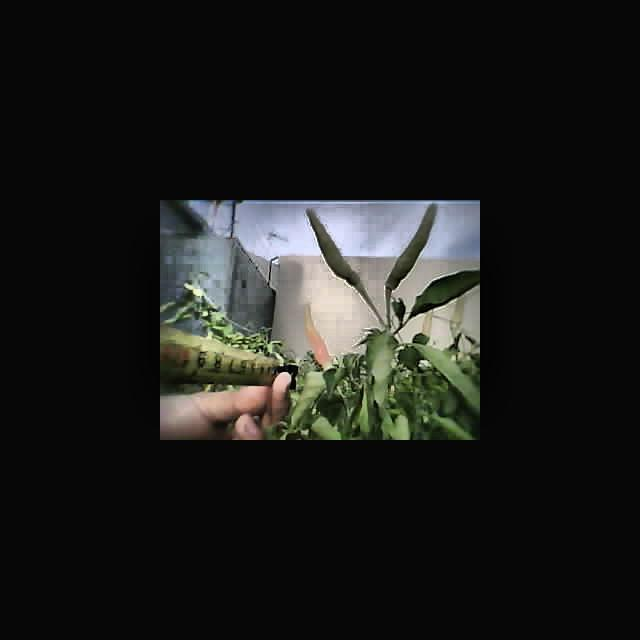Cabai: (302, 306, 340, 375)
